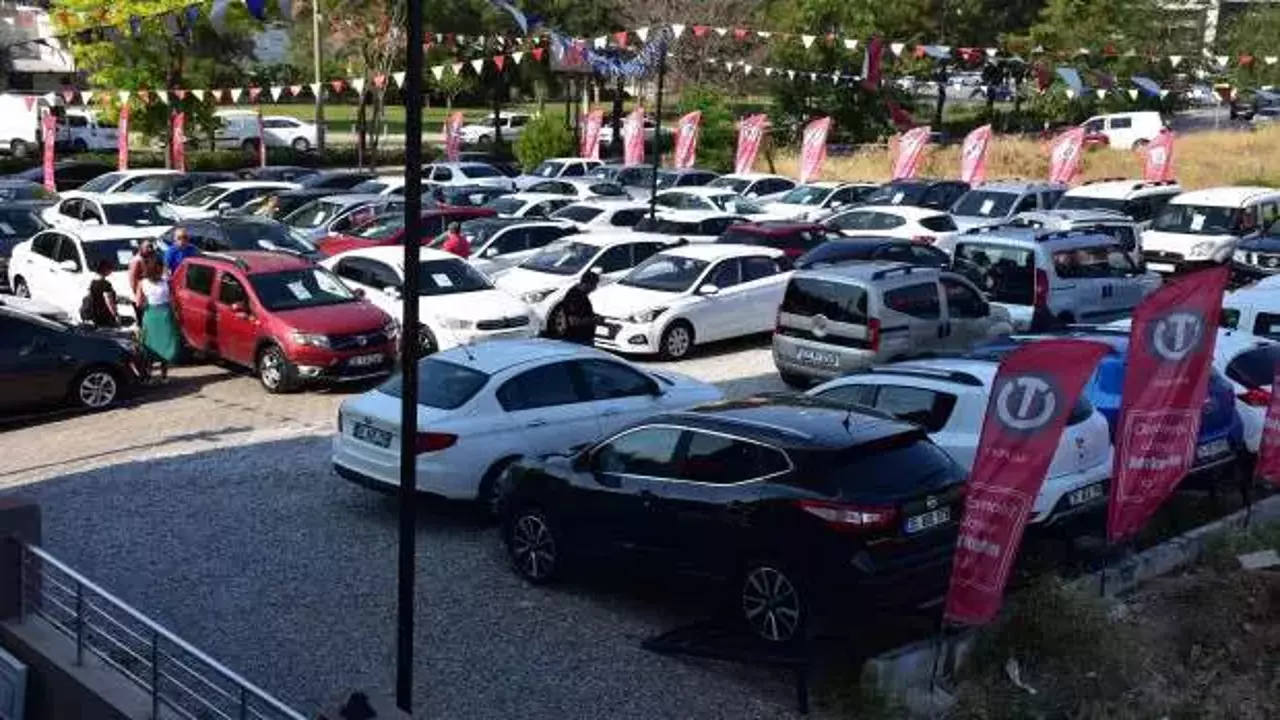Car: (497, 395, 966, 645), (330, 337, 724, 503), (802, 356, 1115, 528), (914, 323, 1248, 480), (168, 245, 398, 394), (774, 260, 1012, 390), (315, 243, 540, 360), (588, 242, 798, 358), (948, 224, 1163, 332), (1107, 318, 1280, 452), (486, 232, 690, 331), (6, 225, 158, 332), (0, 311, 147, 408), (1139, 183, 1280, 275), (424, 215, 581, 275), (318, 204, 497, 256), (276, 193, 430, 243), (157, 217, 330, 261), (810, 206, 961, 254), (1055, 176, 1181, 233), (943, 180, 1071, 235), (1000, 209, 1141, 258), (39, 190, 184, 233), (165, 180, 306, 221), (714, 220, 845, 264), (637, 186, 795, 222), (795, 237, 949, 272), (764, 179, 880, 223), (0, 205, 58, 290), (0, 89, 71, 157), (220, 188, 354, 222), (546, 198, 675, 233), (849, 176, 971, 213), (1220, 269, 1280, 342), (632, 211, 755, 243), (1227, 216, 1280, 289), (123, 173, 241, 204), (702, 172, 801, 206), (512, 157, 607, 192), (419, 161, 517, 192), (1077, 112, 1163, 147), (624, 168, 721, 199), (517, 177, 636, 201), (918, 72, 1009, 100), (479, 192, 582, 216), (65, 106, 118, 151), (0, 172, 62, 210), (76, 169, 178, 192), (351, 175, 447, 197), (459, 113, 529, 143), (0, 294, 70, 323), (260, 116, 317, 150), (420, 185, 514, 205), (213, 109, 259, 149), (599, 118, 667, 144), (1035, 126, 1110, 147), (582, 163, 652, 185), (289, 172, 377, 189), (236, 165, 319, 182)
